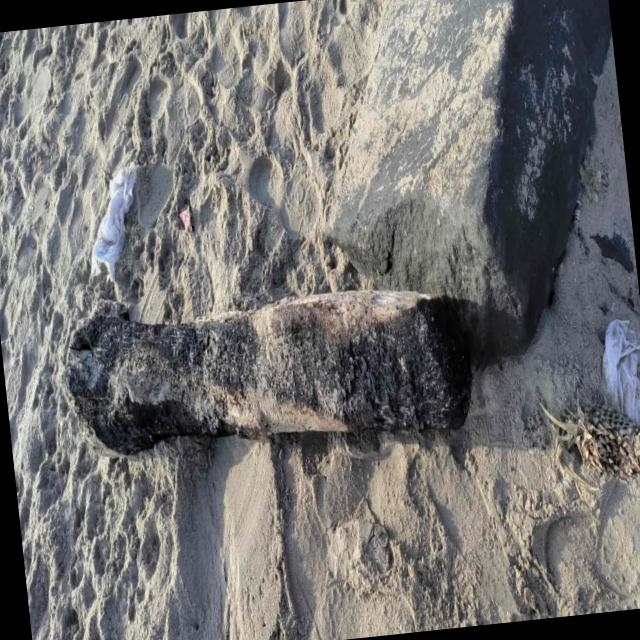giay: (90, 160, 135, 280)
rac_huu_co: (63, 289, 472, 453)
